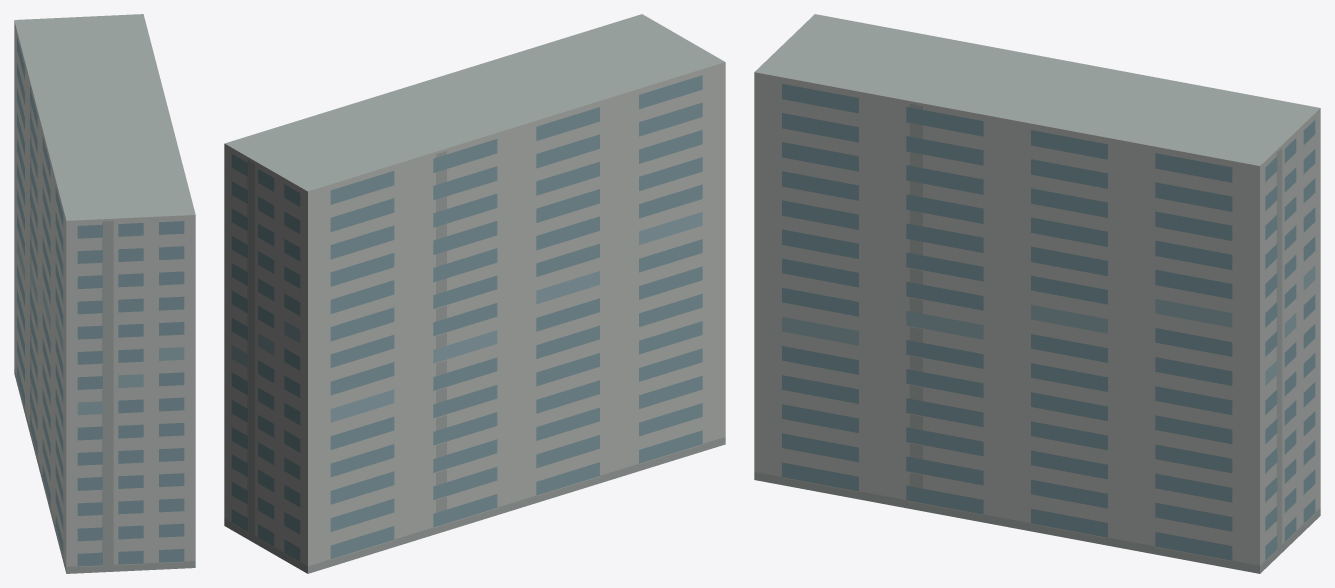
Rendered from residential-04c1fdb2-ffc2-4c19-a625-49a9c5eace5b.glb.
3 renders of one model, left to right at view 1: azimuth 30°, elevation 25°; view 2: azimuth 150°, elevation 25°; view 3: azimuth 270°, elevation 25°, orthographic. The views are drawn at different scales.
Visible parts, largest first — view 1: residential-04c1fdb2-ffc2-4c19-a625-49a9c5eace5b.tmp; view 2: residential-04c1fdb2-ffc2-4c19-a625-49a9c5eace5b.tmp; view 3: residential-04c1fdb2-ffc2-4c19-a625-49a9c5eace5b.tmp.
Boxes of the visible parts, <box> form: residential-04c1fdb2-ffc2-4c19-a625-49a9c5eace5b.tmp: <box>14,14,195,573</box>; residential-04c1fdb2-ffc2-4c19-a625-49a9c5eace5b.tmp: <box>224,14,725,573</box>; residential-04c1fdb2-ffc2-4c19-a625-49a9c5eace5b.tmp: <box>754,14,1320,573</box>.
Bounding box in the file's own units: 29.61 × 37 × 46.56.
